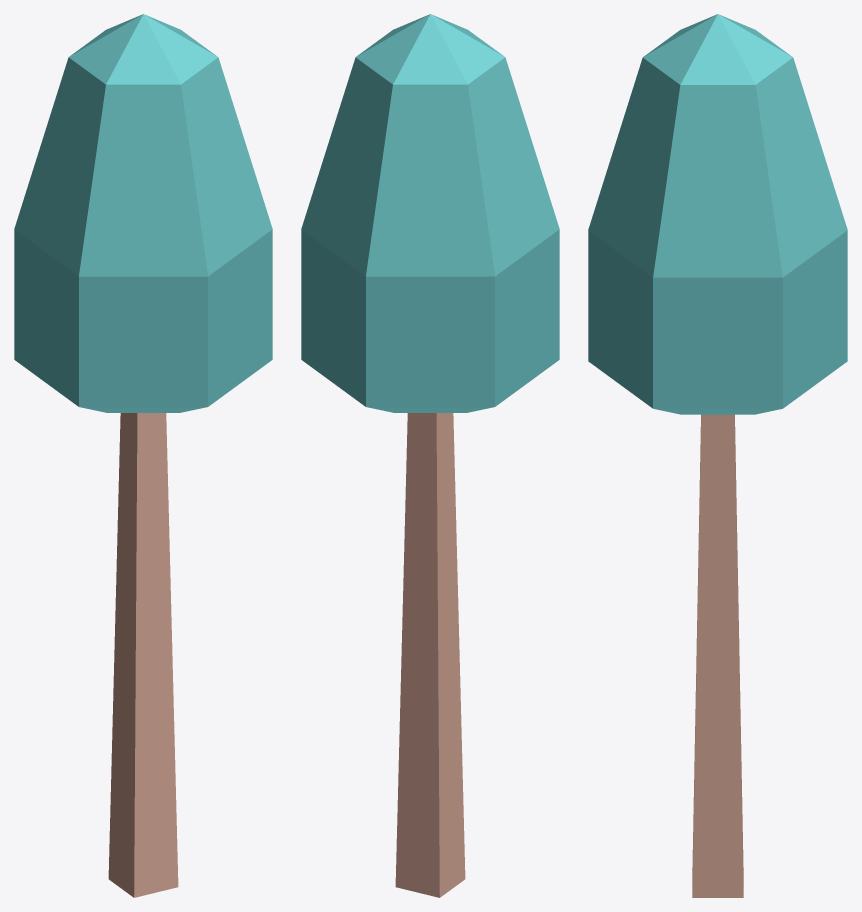
Rendered from tree_simple_dark.gltf.
The picture shows the model from 3 angles, left to right: view 1: azimuth 30°, elevation 25°; view 2: azimuth 150°, elevation 25°; view 3: azimuth 270°, elevation 25°; orthographic projection.
Parts seen in each view (by area): view 1: tree_simple_dark; view 2: tree_simple_dark; view 3: tree_simple_dark.
Boxes of the visible parts, x1,y1,x2,y2 form: tree_simple_dark: [14, 14, 272, 897]; tree_simple_dark: [301, 14, 559, 897]; tree_simple_dark: [588, 14, 847, 897].
Bounding box in the file's own units: 0.3546 × 1.52 × 0.4095.
